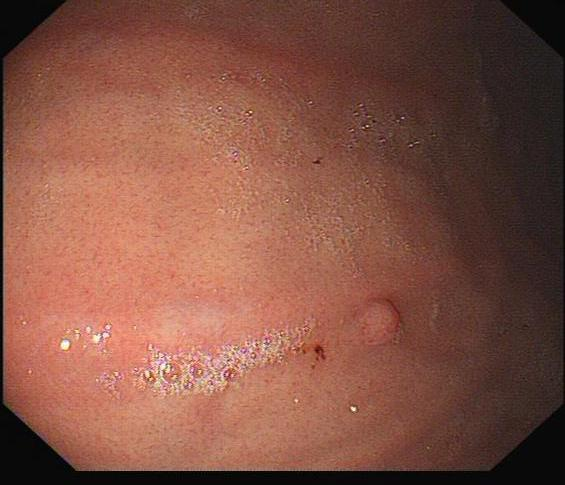Polyp: (358, 295, 418, 359)
